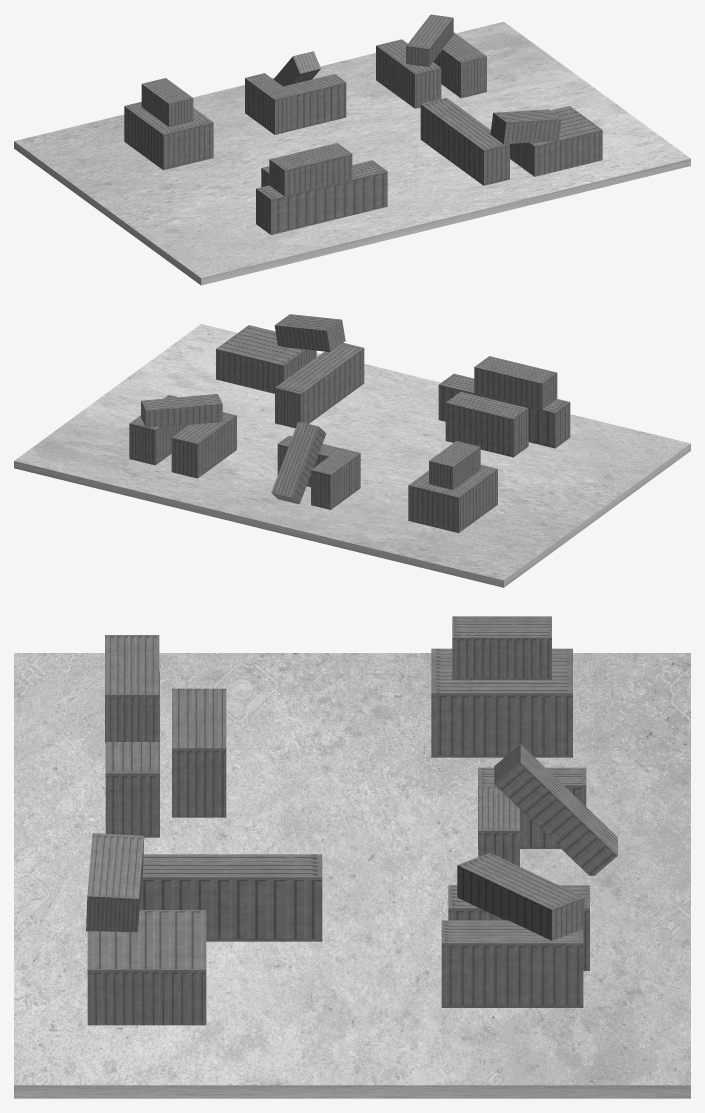
The model's file is Map3.fbx.
The picture shows the model from 3 angles, top to bottom: view 1: azimuth 30°, elevation 25°; view 2: azimuth 150°, elevation 25°; view 3: azimuth 270°, elevation 25°; orthographic projection. The views are drawn at different scales.
Parts seen in each view (by area): view 1: Cube, Cube.001, Cube.005, Cube.008, Cube.010, Cube.003, Cube.009, Cube.004, Cube.006, Cube.013, Cube.014, Cube.012 (+1 smaller); view 2: Cube, Cube.008, Cube.003, Cube.007, Cube.010, Cube.009, Cube.004, Cube.005, Cube.001, Cube.011, Cube.012, Cube.013 (+2 smaller); view 3: Cube, Cube.008, Cube.003, Cube.010, Cube.006, Cube.007, Cube.011, Cube.012, Cube.014, Cube.009, Cube.013, Cube.001 (+2 smaller).
Boxes of the visible parts, x1,y1,x2,y2 form: Cube: (14, 21, 690, 285); Cube.001: (256, 160, 387, 234); Cube.005: (245, 73, 346, 134); Cube.008: (420, 97, 509, 185); Cube.010: (124, 102, 213, 170); Cube.003: (510, 106, 602, 176); Cube.009: (269, 143, 352, 196); Cube.004: (376, 39, 441, 108); Cube.006: (433, 32, 486, 98); Cube.013: (490, 109, 561, 144); Cube.014: (141, 78, 193, 126); Cube.012: (406, 14, 453, 66); Cube: (14, 324, 690, 587); Cube.008: (275, 342, 364, 428); Cube.003: (216, 325, 316, 393); Cube.007: (445, 391, 528, 457); Cube.010: (408, 465, 497, 532); Cube.009: (474, 356, 557, 409); Cube.004: (171, 412, 236, 478); Cube.005: (277, 435, 360, 509); Cube.001: (438, 373, 570, 448); Cube.011: (271, 421, 326, 504); Cube.012: (141, 394, 222, 428); Cube.013: (274, 314, 345, 351); Cube: (14, 653, 690, 1098); Cube.008: (139, 854, 322, 941); Cube.003: (87, 910, 206, 1025); Cube.010: (431, 648, 572, 757); Cube.006: (441, 920, 583, 1007); Cube.007: (172, 688, 226, 817); Cube.011: (494, 744, 617, 875); Cube.012: (457, 853, 584, 940); Cube.014: (452, 616, 551, 679); Cube.009: (105, 635, 159, 743); Cube.013: (86, 833, 144, 931); Cube.001: (105, 670, 159, 837).
Bounding box in the file's own units: 18825 × 2610 × 12453.
Materials: 14 (14 with a texture image).
